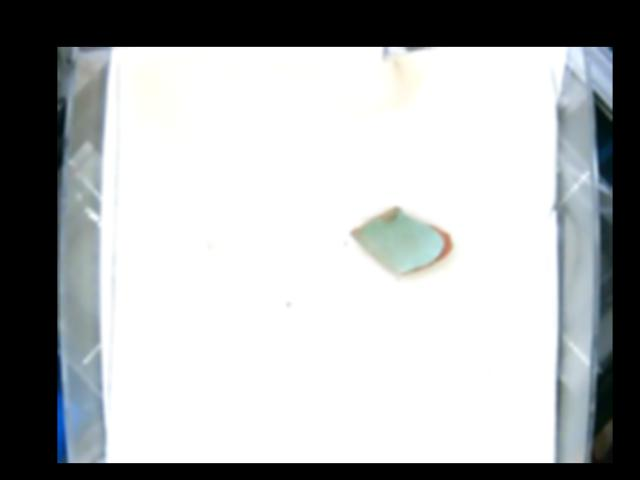China: (353, 205, 452, 273)
